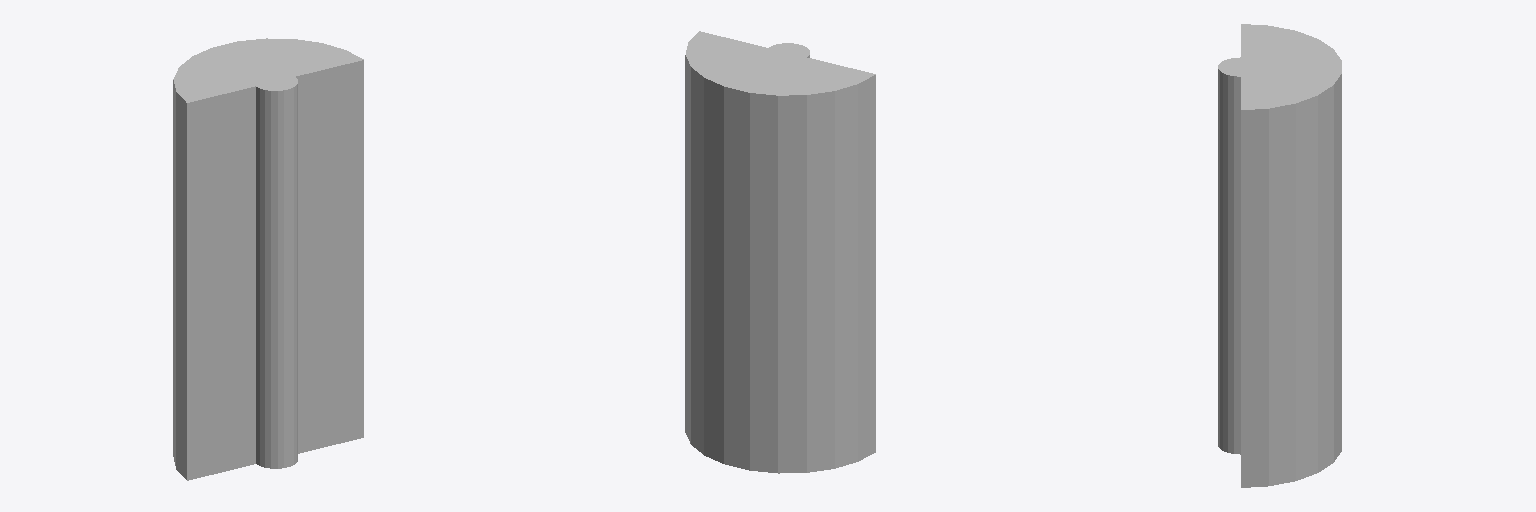
File: building-half-cylinder-with-tube.obj
3 renders of one model, left to right at view 1: azimuth 30°, elevation 25°; view 2: azimuth 150°, elevation 25°; view 3: azimuth 270°, elevation 25°, orthographic.
Visible parts, largest first — view 1: GN_Container; view 2: GN_Container; view 3: GN_Container.
Boxes of the visible parts, box(x1,y1,x2,y2) form: GN_Container: box(173, 38, 363, 480); GN_Container: box(685, 31, 875, 473); GN_Container: box(1218, 24, 1341, 487).
Bounding box in the file's own units: 98.2 × 200 × 59.39.